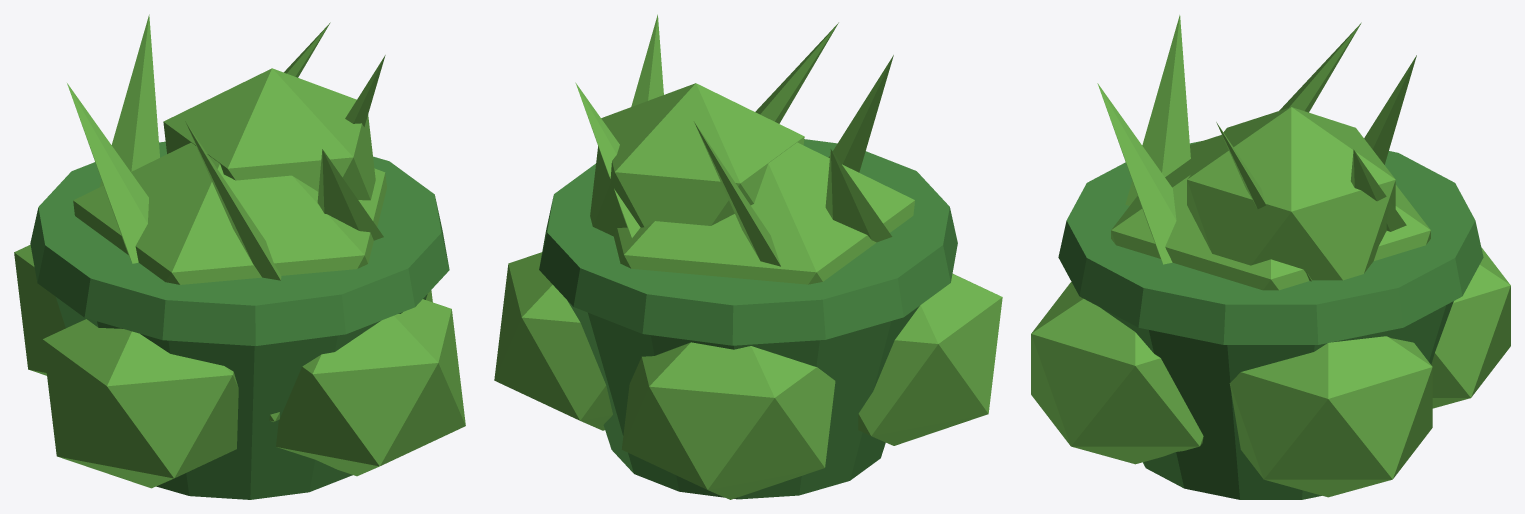
Rendered from plant_pot.glb.
3 renders of one model, left to right at view 1: azimuth 30°, elevation 25°; view 2: azimuth 150°, elevation 25°; view 3: azimuth 270°, elevation 25°, orthographic.
Parts seen in each view (by area): view 1: plant_pot; view 2: plant_pot; view 3: plant_pot.
Boxes of the visible parts, x1=… form: plant_pot: x1=14, y1=14, x2=465, y2=499; plant_pot: x1=494, y1=14, x2=1002, y2=499; plant_pot: x1=1031, y1=15, x2=1510, y2=499.
Size of the model in its own units: 1.4 by 1.2 by 1.37.
